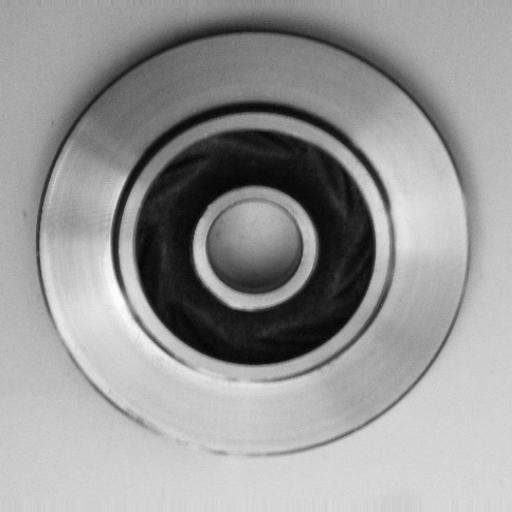scratch: (138, 426, 264, 471), (189, 360, 285, 395)
unpolished_casting: (33, 26, 471, 458)
